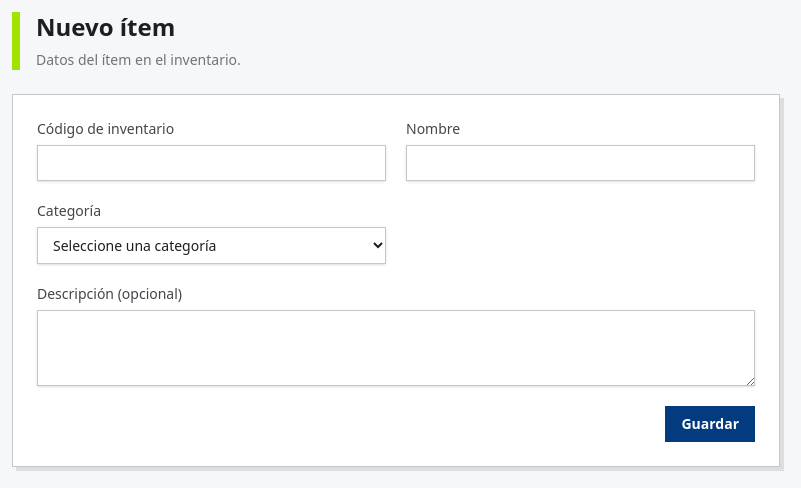
it: ItemFormPage › crea el ítem y vuelve al catálogo
Type "EQ-010" into the field labelled "Código de inventario" at coordinates (212, 163), box left=37, top=145, right=386, bottom=181
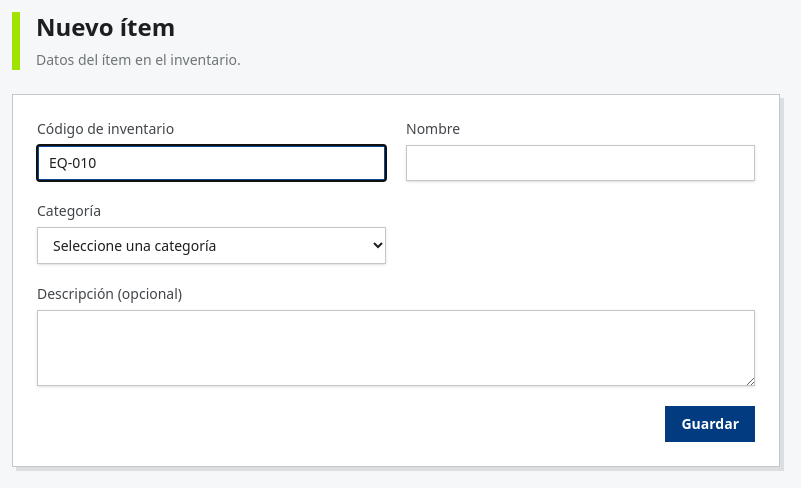
Type "Proyector" into the field labelled "Nombre" at coordinates (580, 163), box left=406, top=145, right=755, bottom=181
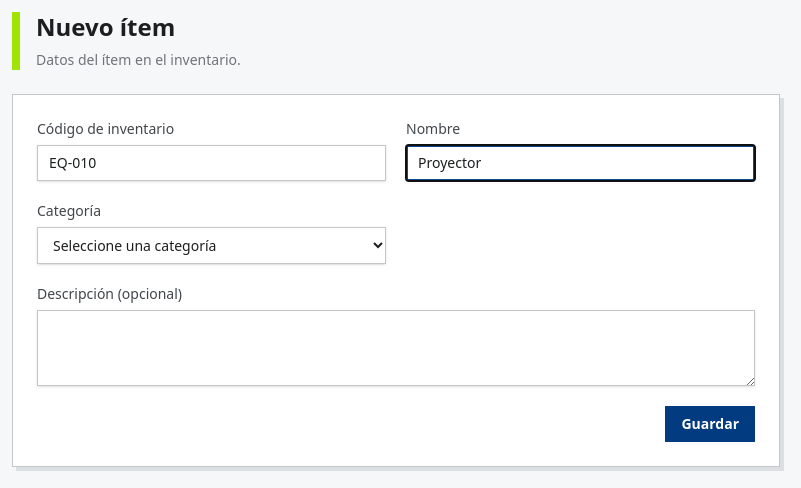
Select "Equipo" in the dropdown labelled "Categoría" at coordinates (212, 246), box left=37, top=227, right=386, bottom=264
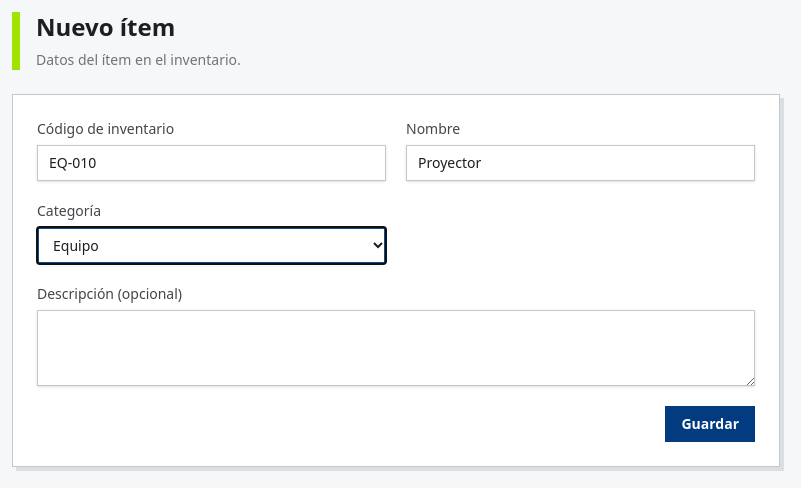
Click the button "Guardar" at coordinates (710, 424), box left=666, top=406, right=755, bottom=442
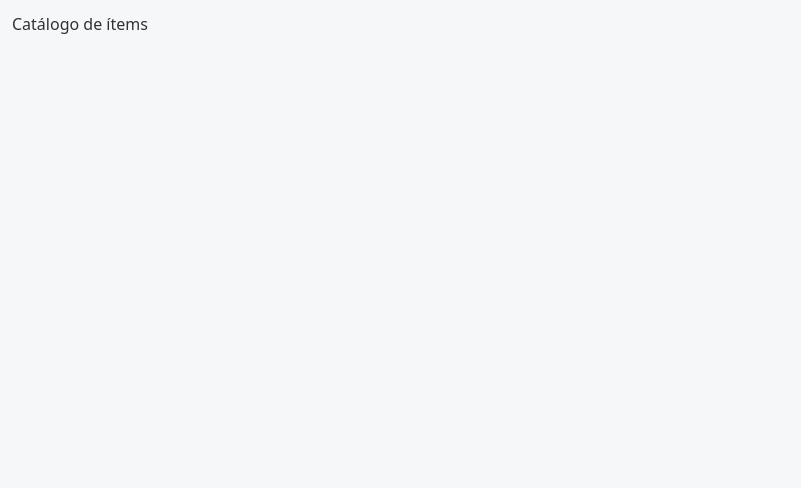
expect the text "Catálogo de ítems" is shown: met, box left=12, top=13, right=148, bottom=35
